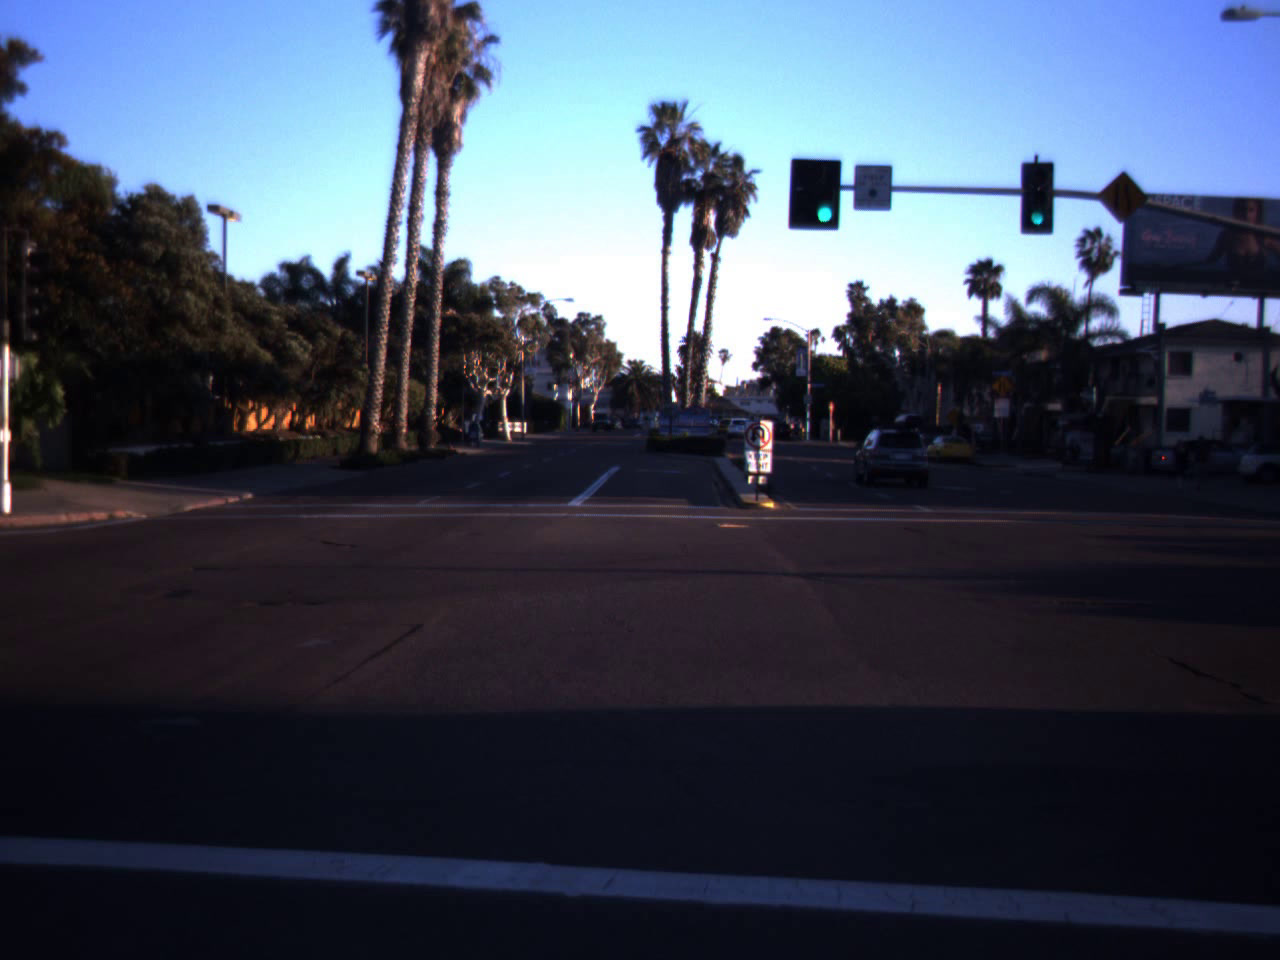go: (805, 159, 844, 229), (1026, 197, 1050, 227)
